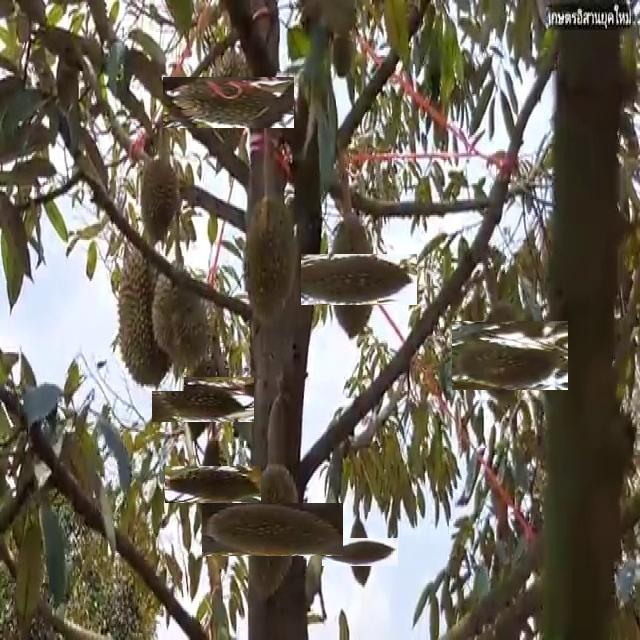durian: (116, 235, 184, 391), (224, 481, 322, 578), (464, 308, 556, 402), (306, 233, 398, 325), (183, 57, 274, 148), (240, 192, 301, 326), (152, 258, 216, 374), (166, 362, 240, 436), (180, 450, 246, 518), (138, 152, 183, 247), (334, 526, 387, 578), (325, 18, 356, 82)
